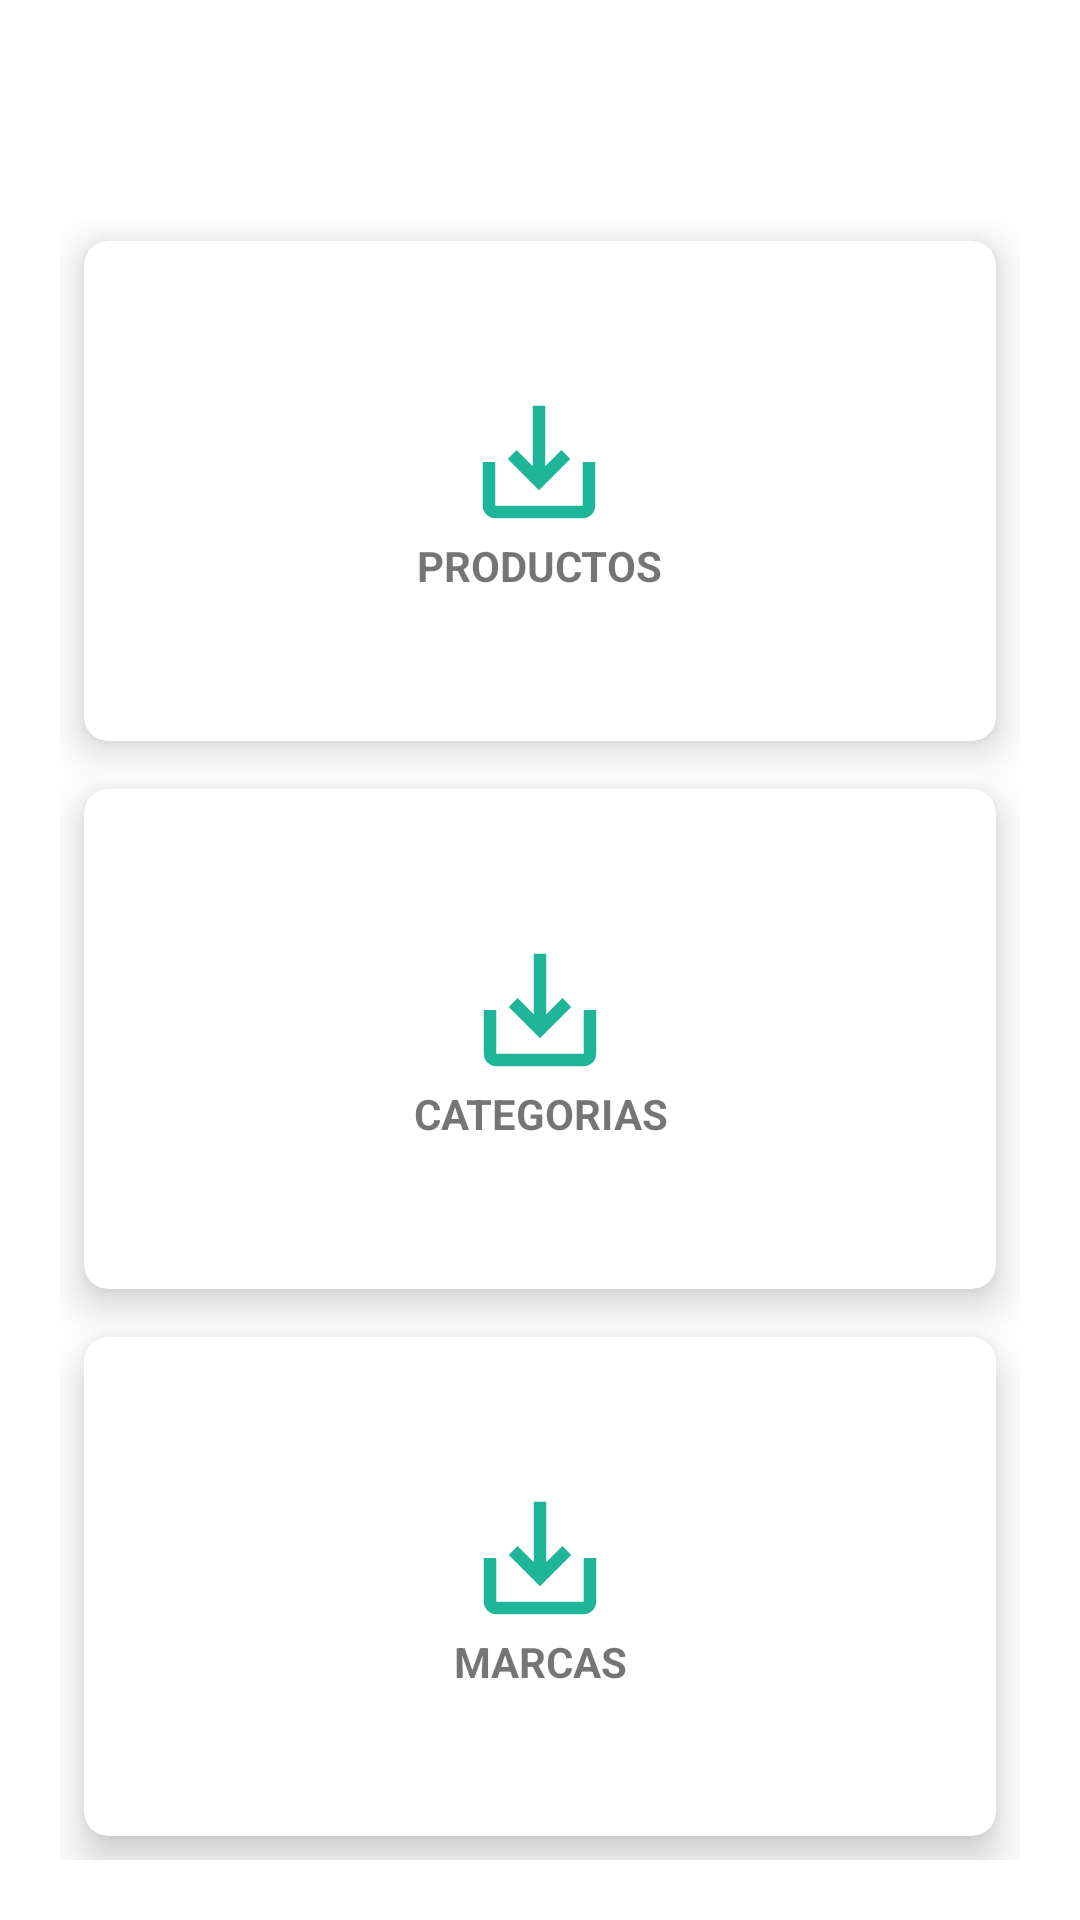

Where to tap for icons on this 1080 × 1920 app screen, as point (x, y):
save: point (539, 462), point (540, 1010), point (540, 1558)
